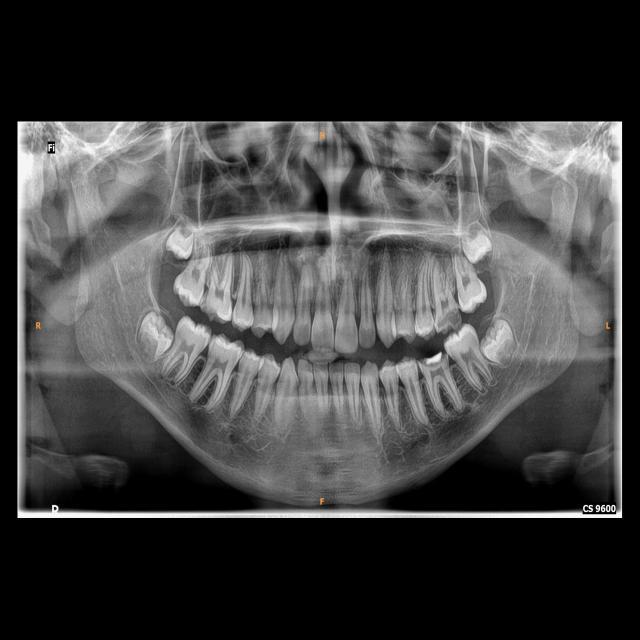dentin-curugu: (436, 307, 466, 333)
dolgu: (416, 352, 451, 369)
kok-enfeksiyonu: (178, 395, 222, 430), (436, 408, 476, 436)
